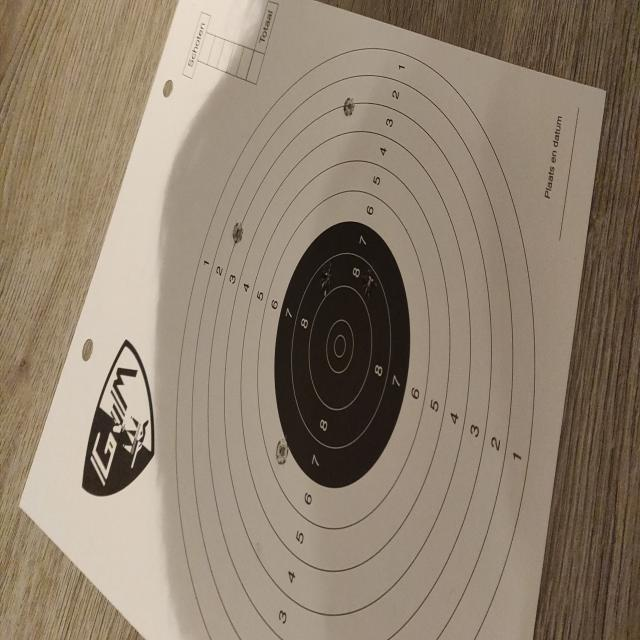3: (231, 218, 244, 245), (343, 95, 356, 118)
6: (276, 438, 288, 466)
8: (362, 264, 378, 298), (320, 263, 334, 297)
Target: (178, 46, 536, 640)
black_contour: (274, 221, 411, 486)
